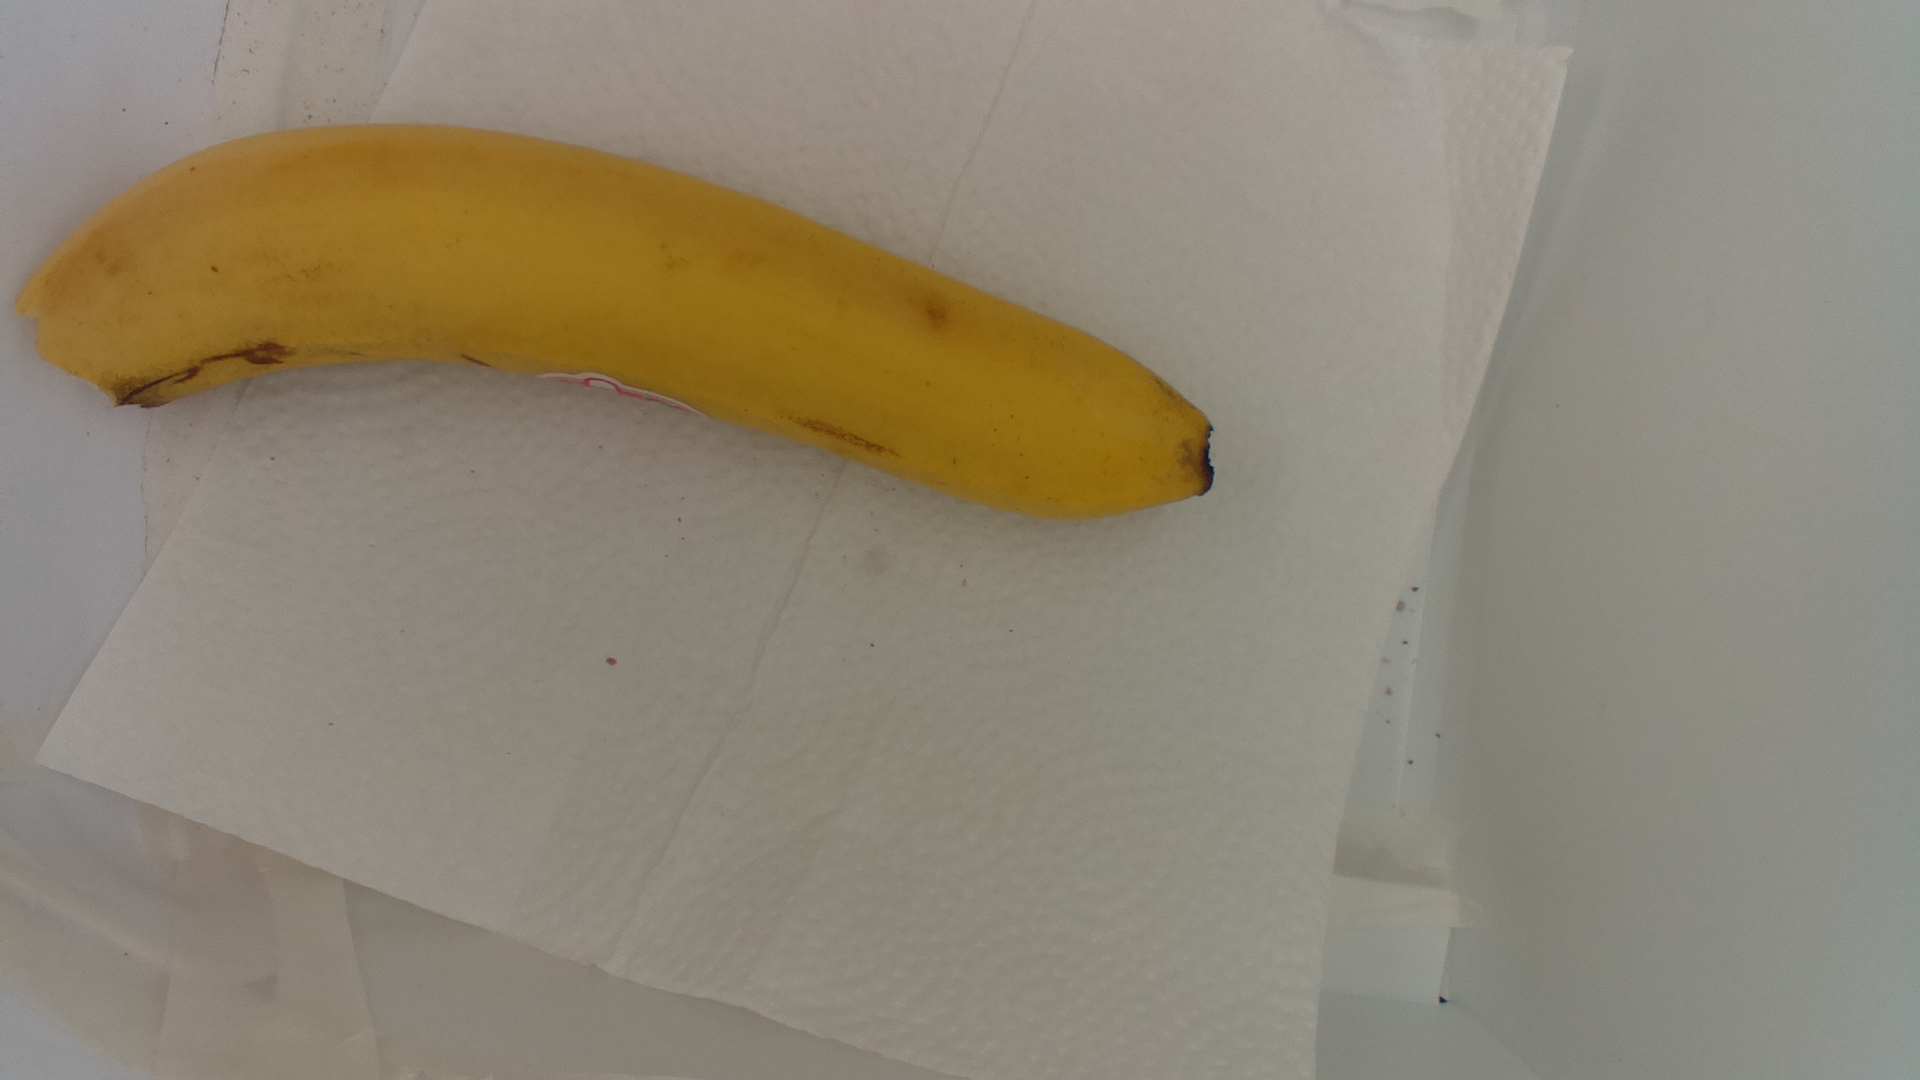fruit: (17, 115, 1215, 527)
